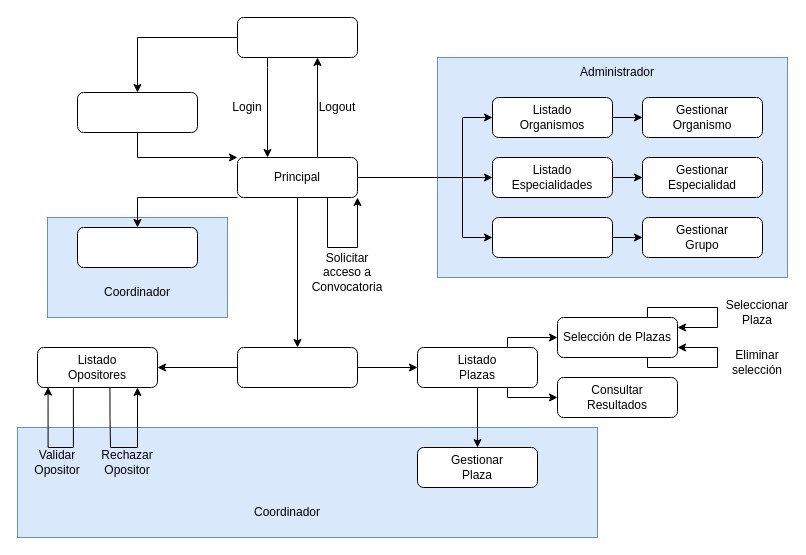
The diagram is 806 pixels wide and 555 high, and some of its shapes have lost their labels. Each missing label, with the centre of its shape:
Convocatoria: (x=297, y=367)
Gestionar Convocatoria: (x=137, y=247)
Listado Grupos: (x=552, y=237)
Portada: (x=297, y=37)
Registro: (x=137, y=112)
